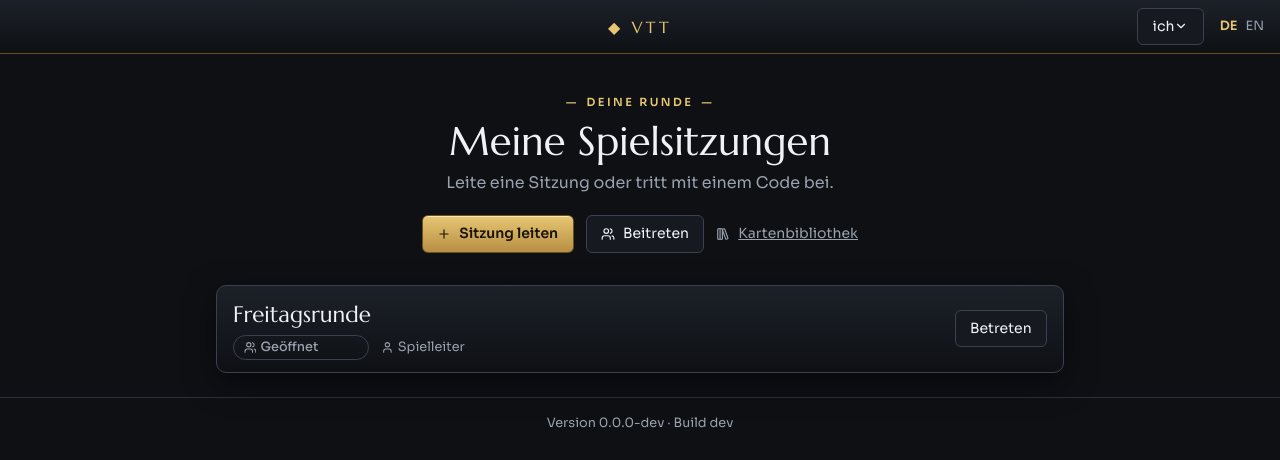
Bereiche der Raumansicht › Klick auf einen Reiter wechselt den Bereich
Expected: the heading "Freitagsrunde" is shown, [233, 300, 371, 328]
Click the button "Betreten": (1001, 328) [955, 310, 1047, 347]
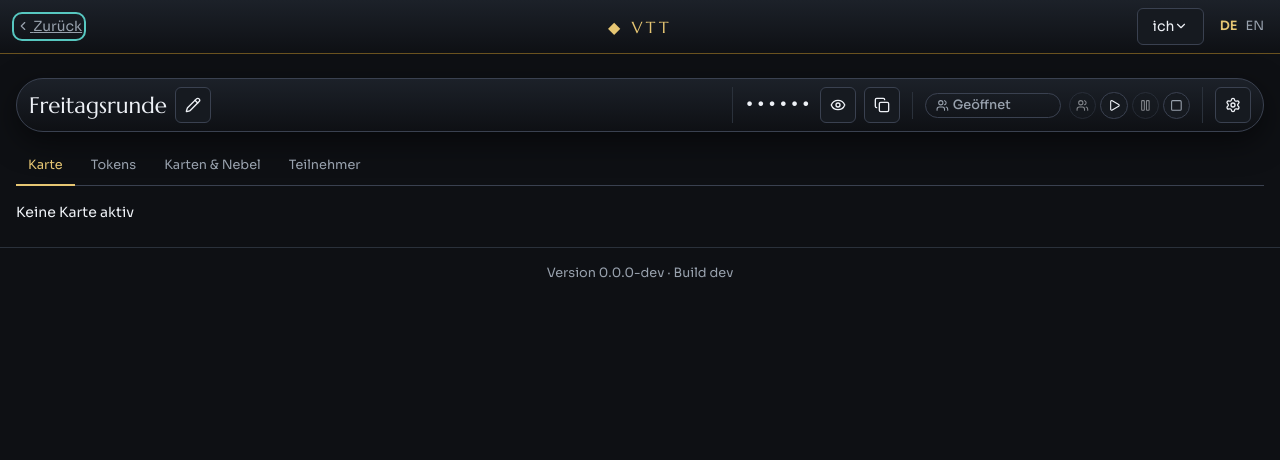
Expected: the element named "Sitzung" is shown, [16, 78, 1264, 132]
Click the tab "Tokens": (113, 167) [79, 148, 148, 186]
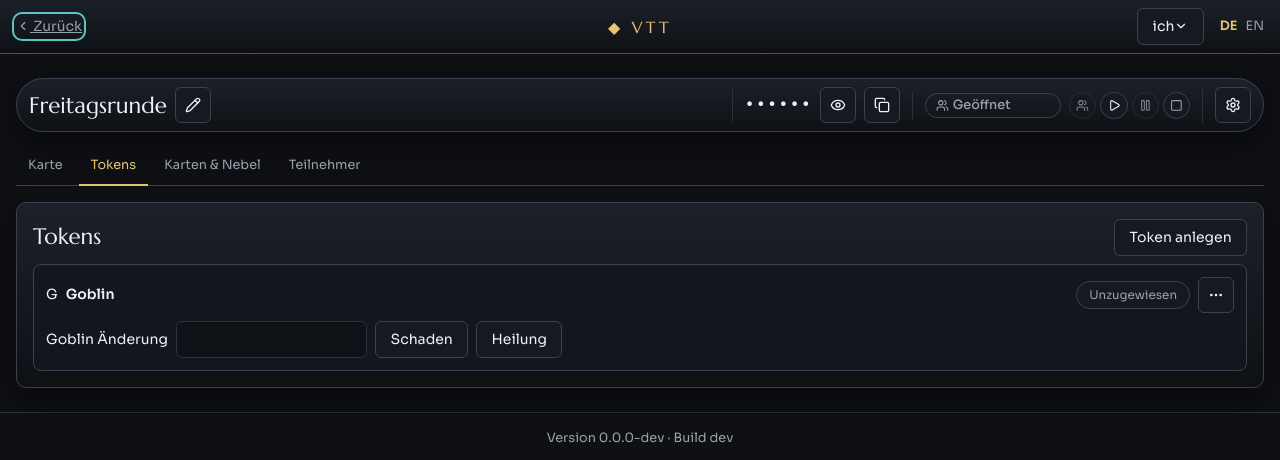
Expected: the heading "Tokens" is shown, [33, 220, 101, 254]
Expected: the button "Token anlegen" is shown, [1114, 219, 1247, 256]
